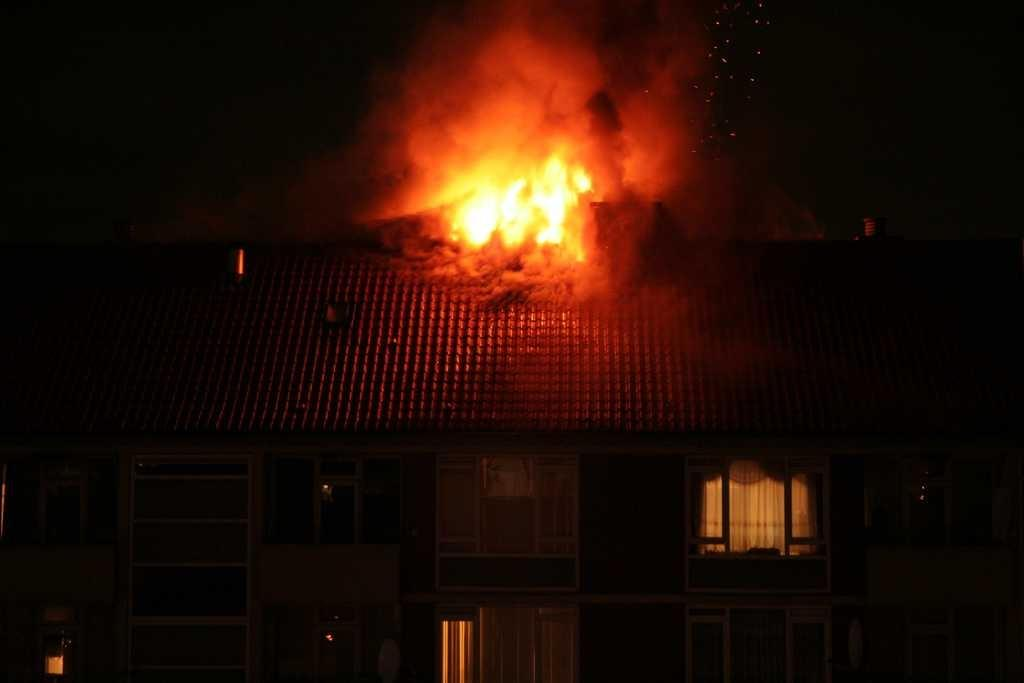fire: (467, 170, 587, 238)
smoke: (450, 28, 628, 133)
